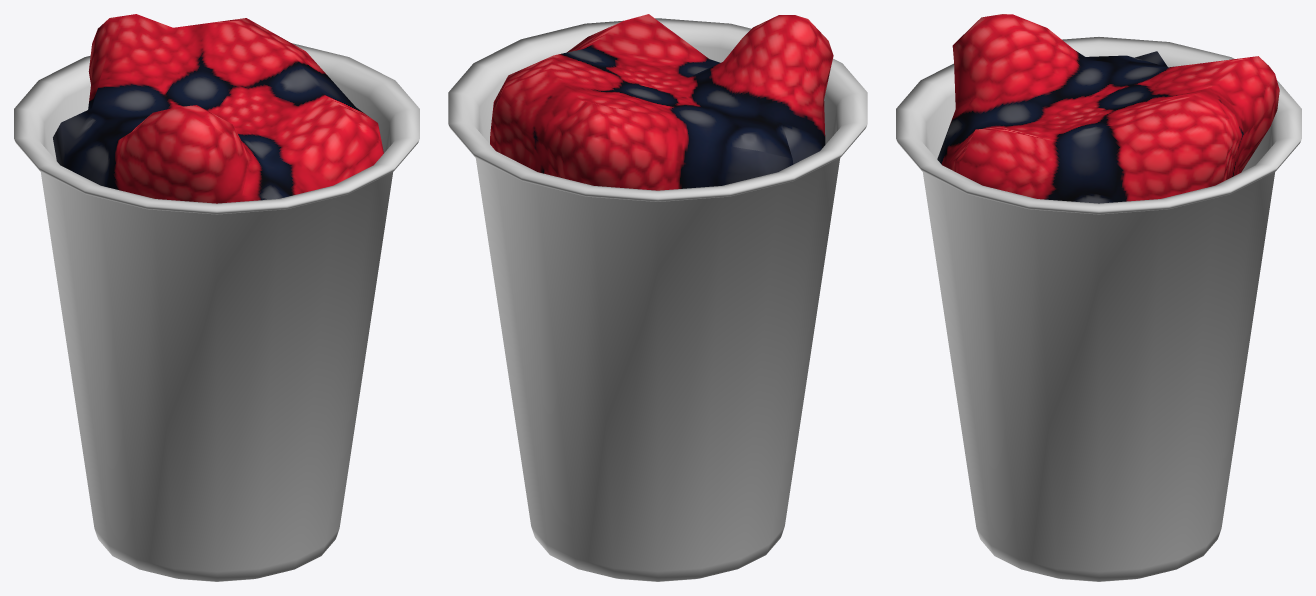
The model's file is BuffetBerries02_5.FBX.
The picture shows the model from 3 angles, left to right: view 1: azimuth 30°, elevation 25°; view 2: azimuth 150°, elevation 25°; view 3: azimuth 270°, elevation 25°; orthographic projection. The views are drawn at different scales.
Visible parts, largest first — view 1: BuffetBerries02_5; view 2: BuffetBerries02_5; view 3: BuffetBerries02_5.
Boxes of the visible parts, bbox=[...] form: BuffetBerries02_5: bbox=[14, 14, 419, 581]; BuffetBerries02_5: bbox=[448, 14, 867, 581]; BuffetBerries02_5: bbox=[896, 14, 1301, 581].
Size of what is drawn, in the model's own units: 0.1125 by 0.1455 by 0.1108.
